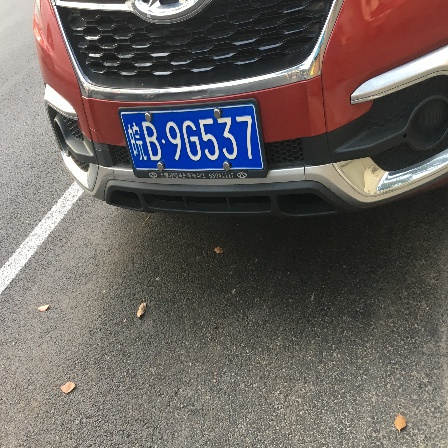plate: (119, 105, 260, 177)
